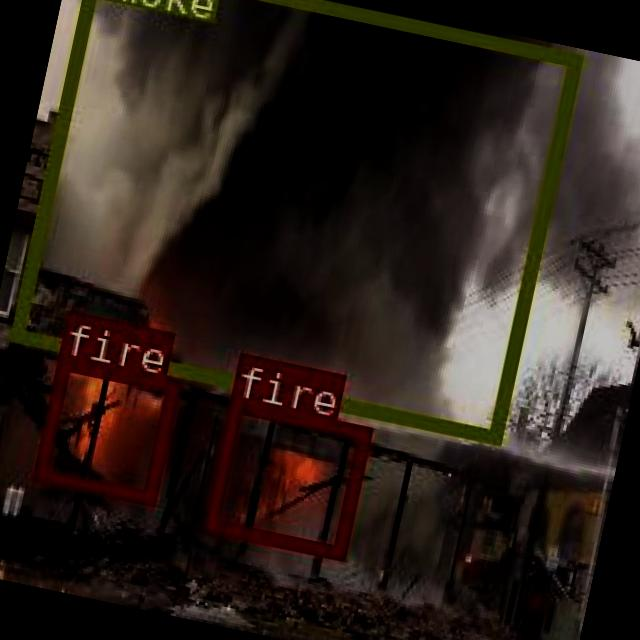fire: (200, 395, 370, 557), (30, 354, 177, 502)
smoke: (9, 0, 580, 441)
